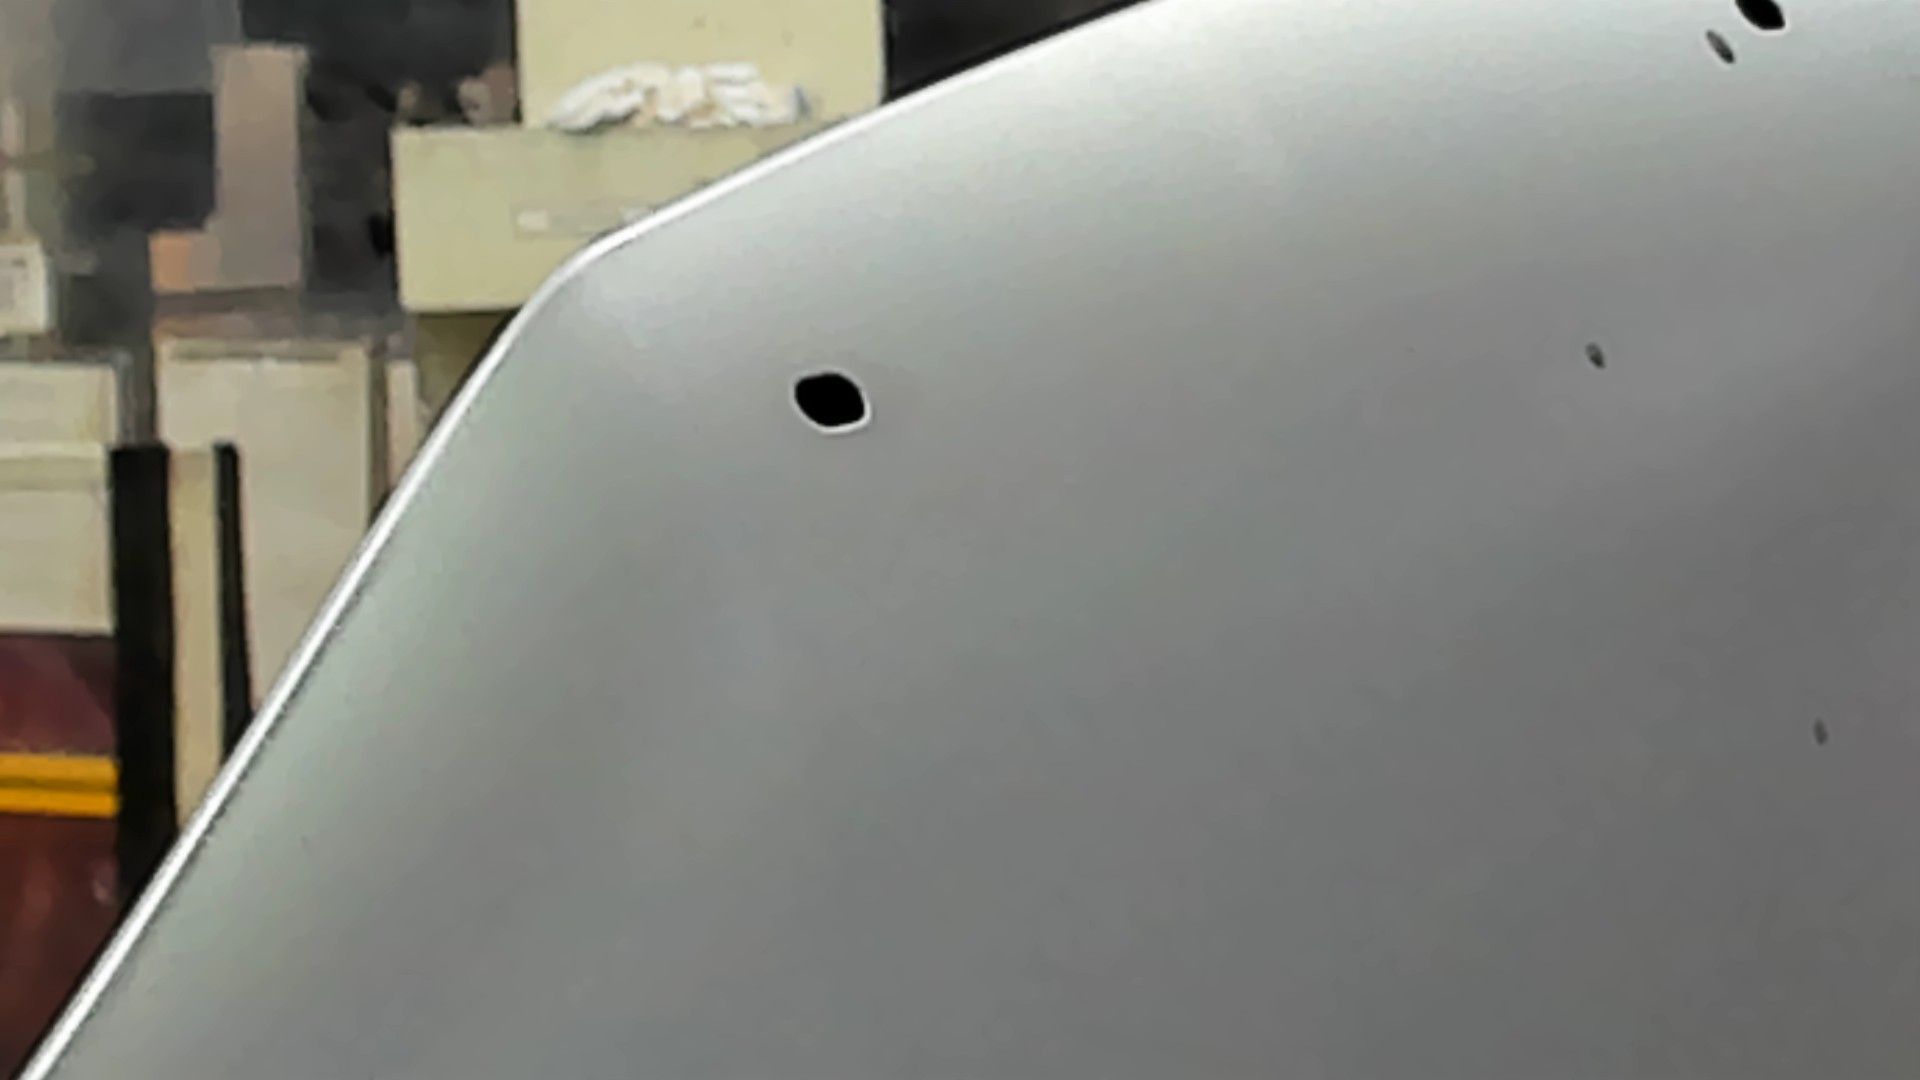amorfo: (779, 360, 880, 442), (1730, 1, 1797, 37)
capo: (1018, 84, 1920, 1080)
